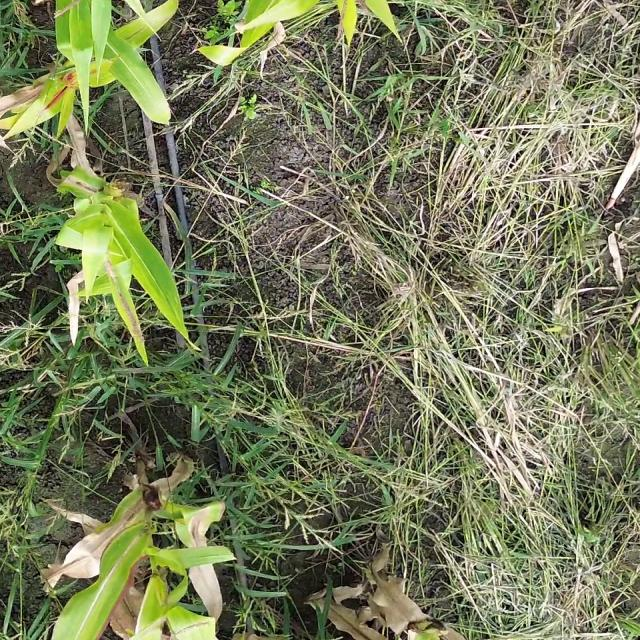northern-leaf-blight: (63, 500, 152, 640)
